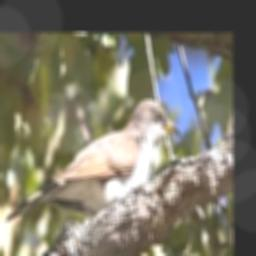Cuckoo: (7, 98, 181, 223)
